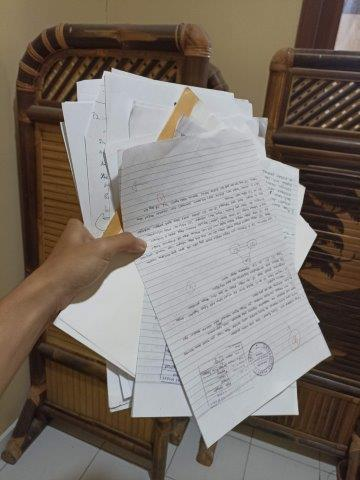kertas: (53, 68, 332, 449)
